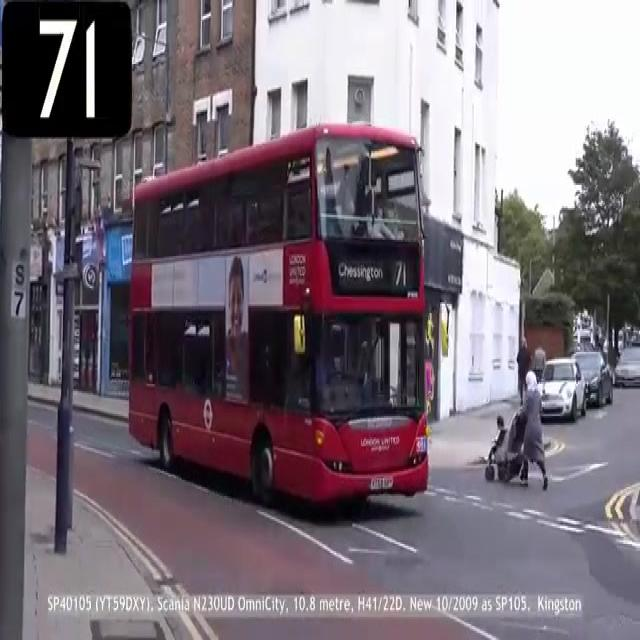bus: (124, 119, 434, 512)
